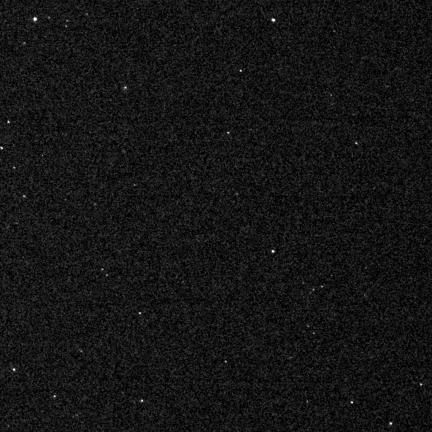blob: (138, 312, 142, 315), (272, 250, 275, 254), (34, 17, 37, 21), (272, 19, 275, 22)
